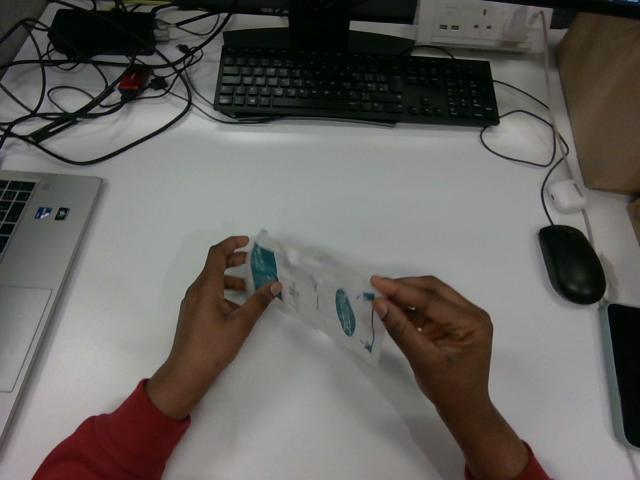gallipot: (247, 230, 384, 364)
